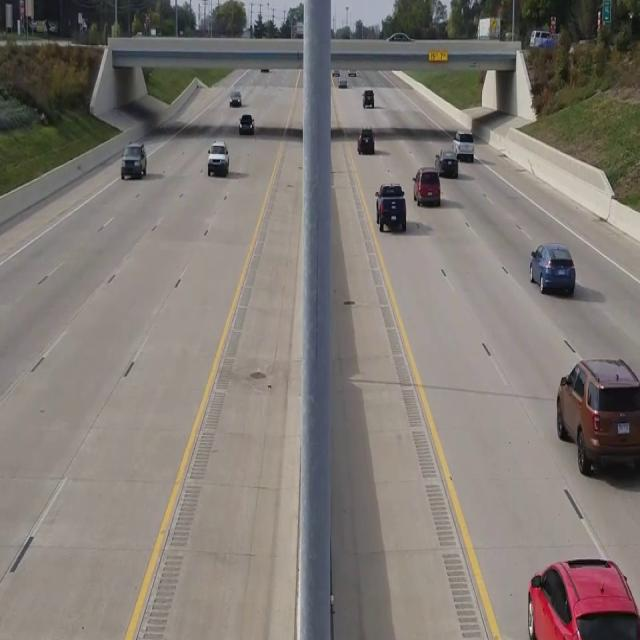car: (556, 357, 640, 476), (526, 557, 640, 640), (529, 243, 576, 296), (374, 184, 406, 232), (412, 166, 440, 206), (121, 141, 146, 179), (206, 141, 228, 177), (434, 148, 458, 178), (357, 127, 374, 154), (238, 114, 254, 134), (363, 89, 373, 107)
